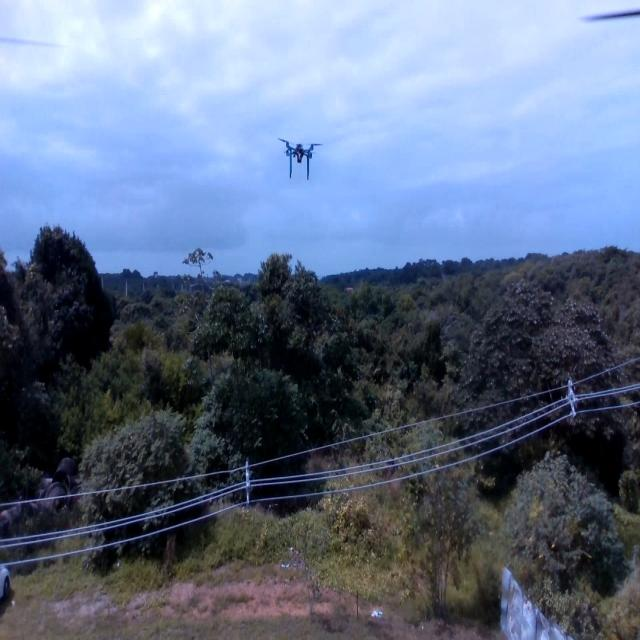-uav-: (273, 128, 327, 188)
